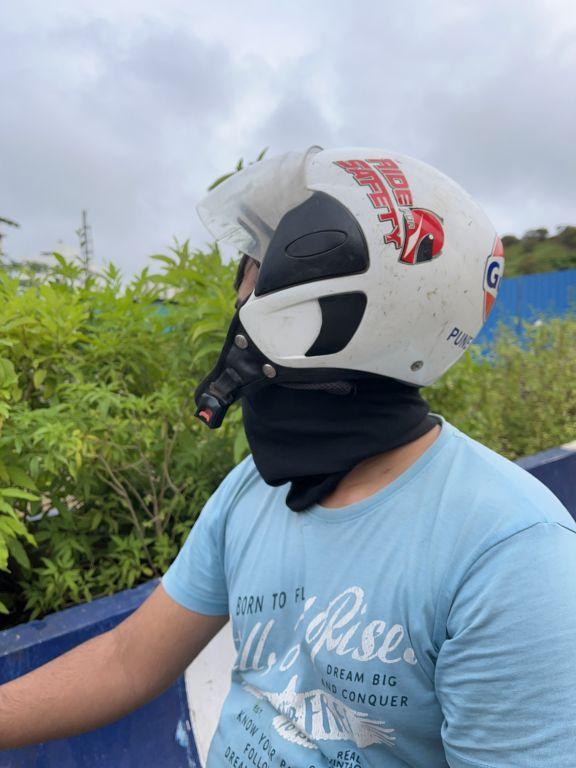helmet: (185, 144, 520, 435)
